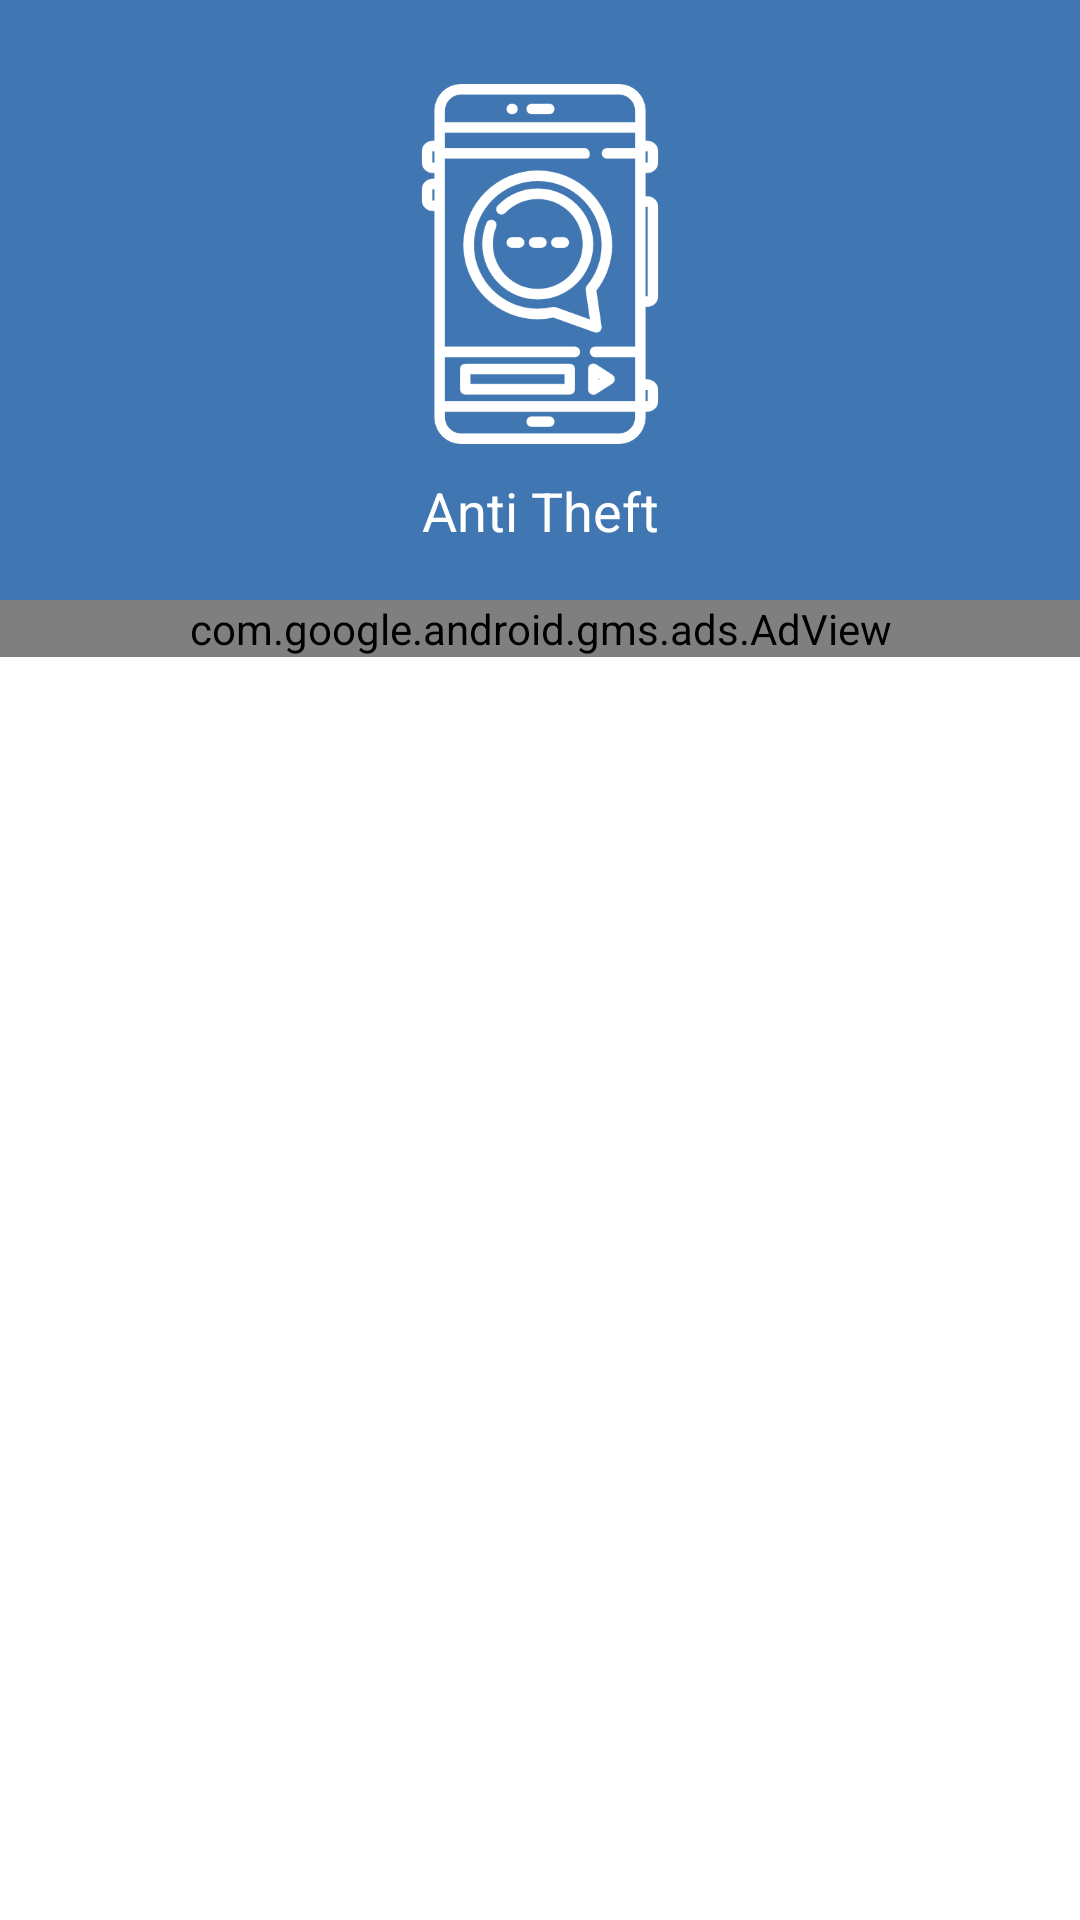

Screen size 1080px×1920px. Icon name, then its center in pixels as point (x, y):
security phone: point (540, 264)
